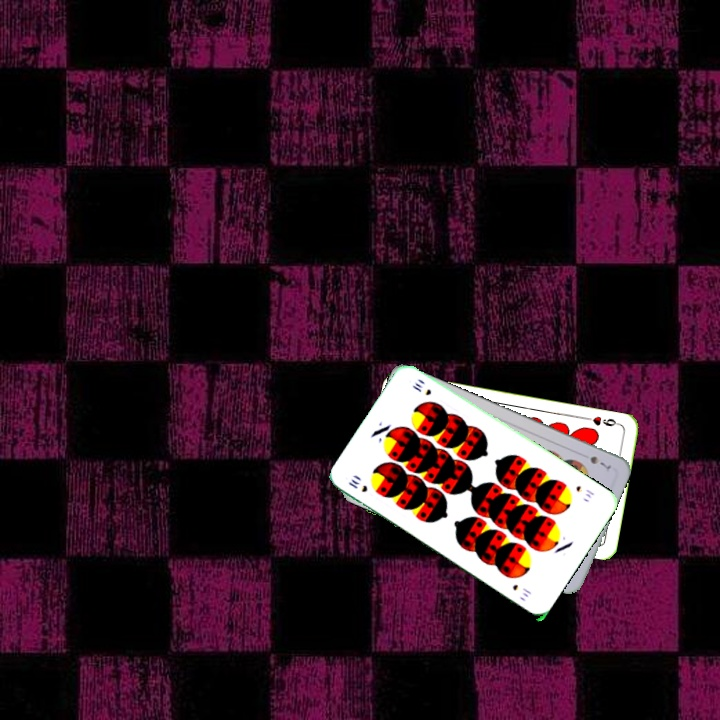H9: (583, 412, 623, 429)
S10: (344, 475, 370, 495), (572, 481, 597, 501)
S7: (586, 452, 614, 472)
